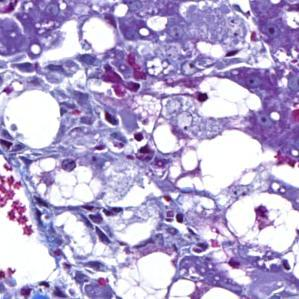ballooning: (219, 188, 298, 259), (19, 153, 107, 211), (188, 74, 265, 126), (102, 248, 179, 295)
